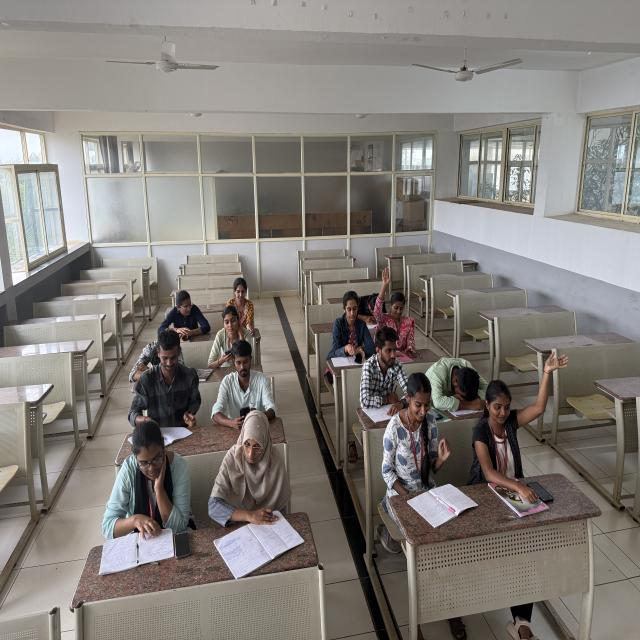Hand Rising: (479, 283, 574, 458), (374, 262, 426, 342)
Reading: (222, 414, 305, 558), (382, 371, 454, 498), (130, 416, 180, 542)
Sleeping: (426, 329, 496, 420), (126, 333, 203, 386), (343, 274, 381, 322)
Using Phone: (208, 335, 287, 431), (206, 301, 247, 379), (336, 280, 372, 365)
